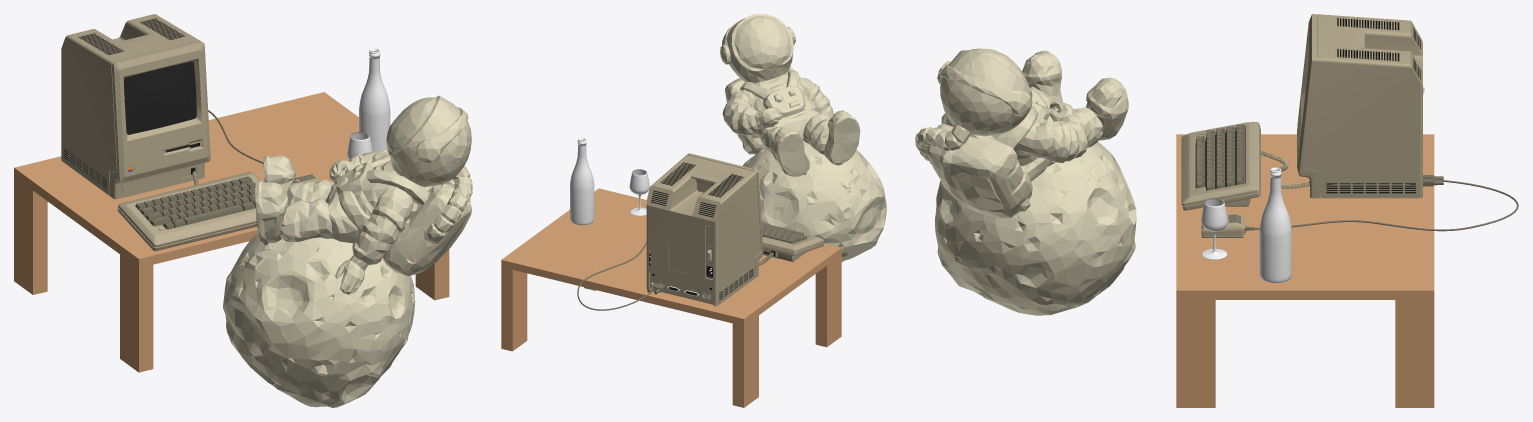
3 renders of one model, left to right at view 1: azimuth 30°, elevation 25°; view 2: azimuth 150°, elevation 25°; view 3: azimuth 270°, elevation 25°, orthographic. The views are drawn at different scales.
Parts seen in each view (by area): view 1: Astronaut, mac, desk, wine, glass; view 2: Astronaut, desk, mac, wine, glass; view 3: Astronaut, desk, mac, wine, glass.
Boxes of the visible parts, left/top/right/bottom form: Astronaut: left=223, top=95, right=472, bottom=407; mac: left=61, top=14, right=320, bottom=250; desk: left=14, top=92, right=449, bottom=372; wine: left=359, top=48, right=390, bottom=151; glass: left=347, top=132, right=372, bottom=159; Astronaut: left=720, top=14, right=886, bottom=261; desk: left=501, top=188, right=841, bottom=407; mac: left=577, top=153, right=824, bottom=310; wine: left=570, top=137, right=594, bottom=225; glass: left=629, top=169, right=649, bottom=215; Astronaut: left=915, top=48, right=1136, bottom=315; desk: left=1176, top=134, right=1434, bottom=407; mac: left=1181, top=14, right=1518, bottom=237; wine: left=1259, top=167, right=1291, bottom=282; glass: left=1201, top=198, right=1227, bottom=259.
Size of the model in its own units: 9.63 by 8.67 by 15.7.
15 materials, 9 textured.
